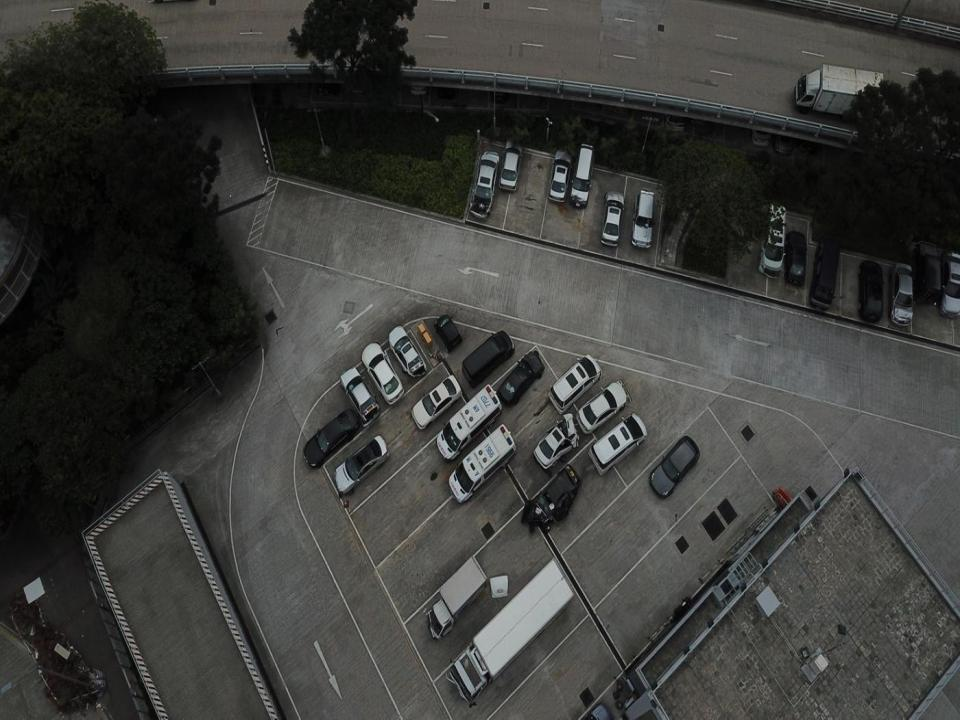car: (447, 422, 516, 502), (435, 384, 502, 462), (520, 463, 581, 535), (332, 434, 389, 497), (303, 409, 359, 470), (590, 412, 646, 473), (550, 351, 603, 412), (650, 434, 693, 501), (412, 374, 462, 431), (532, 408, 579, 468), (495, 347, 542, 406), (361, 339, 403, 404), (466, 149, 500, 219), (339, 366, 378, 426), (811, 234, 842, 309), (386, 323, 427, 378), (758, 204, 788, 278), (579, 380, 623, 430), (912, 234, 942, 301), (888, 260, 917, 328), (853, 258, 884, 320), (630, 186, 655, 250), (600, 188, 625, 246), (548, 145, 572, 205), (785, 230, 809, 286), (500, 135, 522, 193), (943, 248, 960, 320), (433, 312, 462, 354), (665, 92, 688, 136), (774, 112, 796, 156), (754, 113, 770, 149)
truck: (446, 559, 574, 702), (424, 554, 487, 640), (792, 63, 886, 118)
van: (459, 331, 516, 383), (571, 144, 595, 210)
